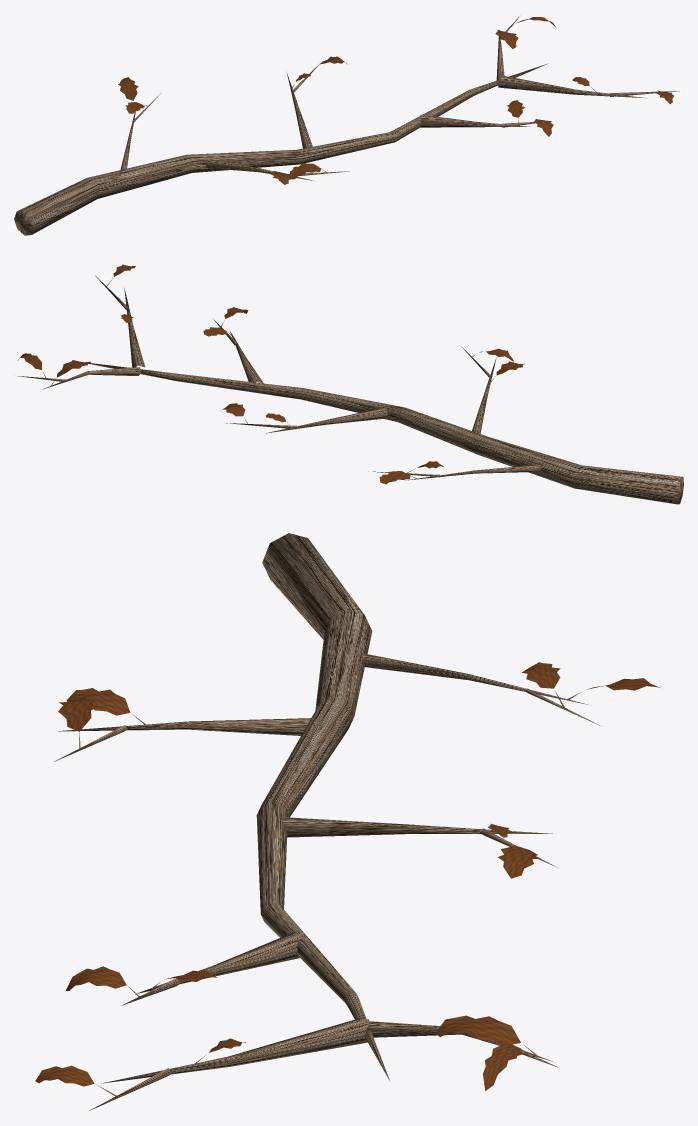
File: fallen-leafy-fork.glb
The picture shows the model from 3 angles, top to bottom: view 1: azimuth 30°, elevation 25°; view 2: azimuth 150°, elevation 25°; view 3: azimuth 270°, elevation 25°; orthographic projection. The views are drawn at different scales.
Visible parts, largest first — view 1: leafy-fork; view 2: leafy-fork; view 3: leafy-fork.
Part boxes in pixels (x1,y1,x2,y2): leafy-fork: [14, 16, 679, 235]; leafy-fork: [17, 264, 683, 504]; leafy-fork: [35, 533, 660, 1110].
Size of the model in its own units: 1.2 by 0.0965 by 0.5326.
2 materials, 2 textured.
